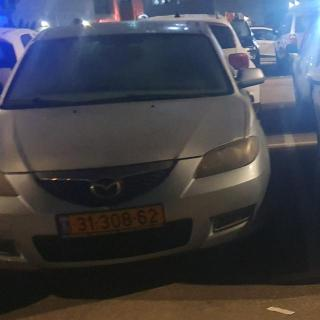LicensePlate: (69, 204, 164, 234)
